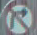Don't turn right: (3, 2, 34, 34)
